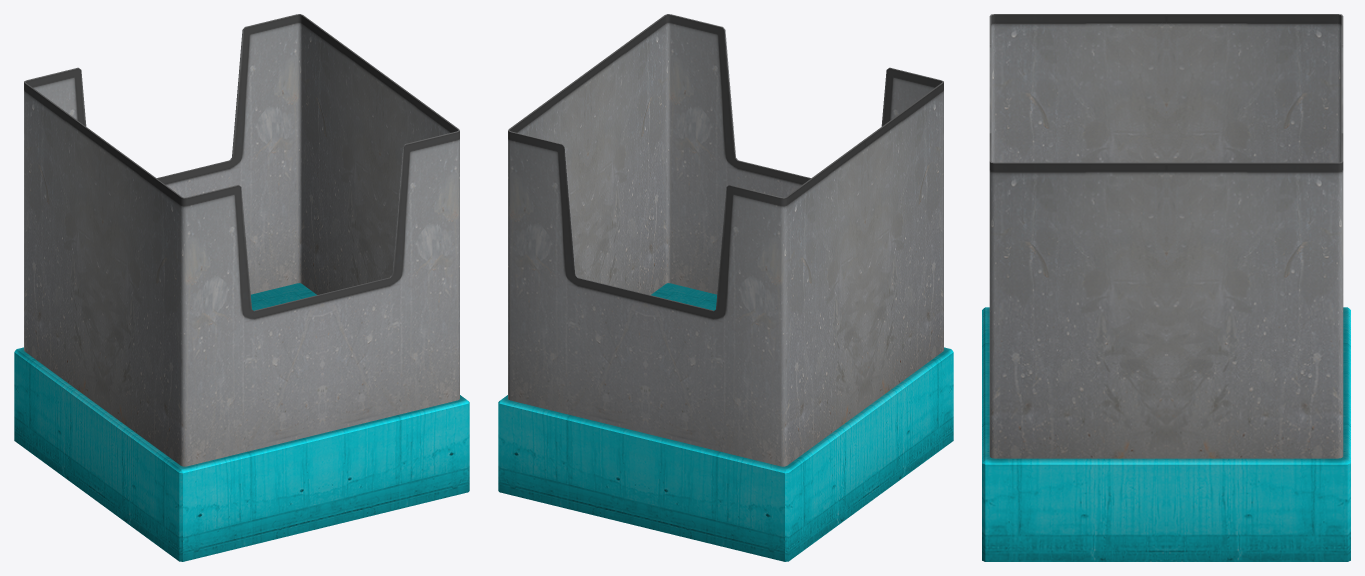
The model's file is bin_cyan.dae.
3 views of the same model, side by side, from view 1: azimuth 30°, elevation 25°; view 2: azimuth 150°, elevation 25°; view 3: azimuth 270°, elevation 25° (orthographic). The views are drawn at different scales.
Visible parts, largest first — view 1: Bin; view 2: Bin; view 3: Bin.
Boxes of the visible parts, x1=… form: Bin: x1=14, y1=14, x2=469, y2=561; Bin: x1=498, y1=14, x2=953, y2=561; Bin: x1=982, y1=14, x2=1350, y2=561.
Size of the model in its own units: 668 by 668 by 791.
